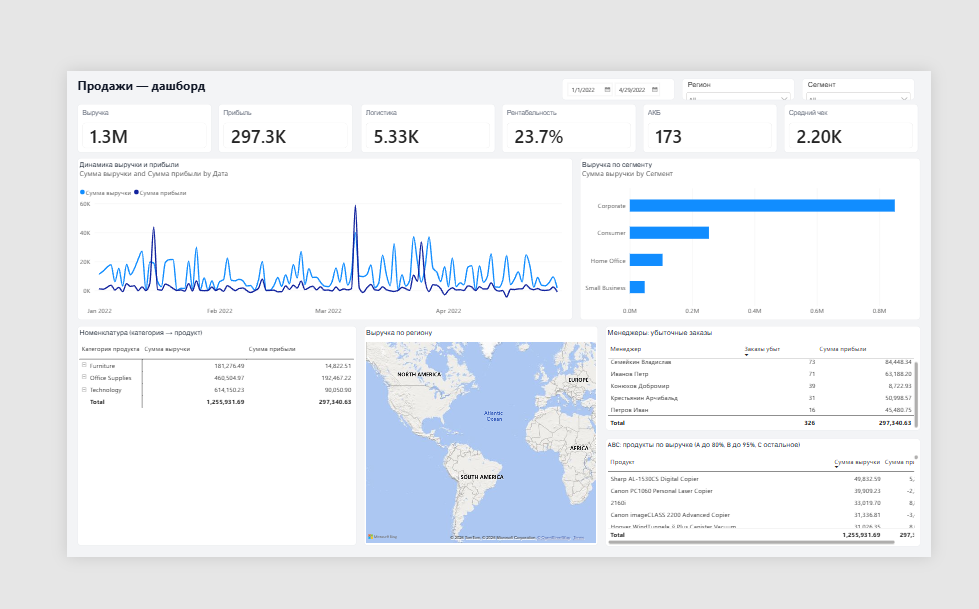

The dashboard page shown, as its layout file describes it:
{"tool":"powerbi","page":{"name":"Sales","canvas":[1920,1080],"ordinal":0},"visuals":[{"type":"textbox","box":[24,12,900,48],"z":0},{"type":"cardVisual","title":"Revenue","fields":{"Data":["Продажи.Сумма выручки"]},"box":[24,72,298,108],"z":1000},{"type":"cardVisual","title":"Profit","fields":{"Data":["Продажи.Сумма прибыли"]},"box":[338,72,298,108],"z":2000},{"type":"cardVisual","title":"Logistics","fields":{"Data":["Продажи.Затраты на логистику"]},"box":[652,72,298,108],"z":3000},{"type":"cardVisual","title":"Profitability","fields":{"Data":["Продажи.Рентабельность"]},"box":[966,72,298,108],"z":4000},{"type":"cardVisual","title":"Active customers","fields":{"Data":["Продажи.АКБ"]},"box":[1280,72,298,108],"z":5000},{"type":"cardVisual","title":"Avg. order value","fields":{"Data":["Продажи.Средний чек"]},"box":[1594,72,298,108],"z":6000},{"type":"lineChart","title":"Revenue and profit over time","fields":{"Category":["Продажи.Дата"],"Y":["Продажи.Сумма выручки","Продажи.Сумма прибыли"]},"box":[24,192,1100,360],"z":7000},{"type":"clusteredBarChart","title":"Revenue by segment","fields":{"Category":["Продажи.Сегмент"],"Y":["Продажи.Сумма выручки"]},"box":[1140,192,756,360],"z":8000},{"type":"pivotTable","title":"Product hierarchy (category → product)","fields":{"Rows":["Продажи.Категория продукта","Продажи.Подкатегория продукта","Продажи.Продукт"],"Values":["Продажи.Сумма выручки","Продажи.Сумма прибыли"]},"box":[24,568,620,488],"z":9000},{"type":"filledMap","title":"Revenue by region","fields":{"Location":["Продажи.Регион"],"Values":["Продажи.Сумма выручки"]},"box":[660,568,520,488],"z":10000},{"type":"tableEx","title":"Managers: loss-making orders","fields":{"Values":["Продажи.Менеджер","Продажи.Заказы убыт","Продажи.Сумма прибыли"]},"box":[1196,568,700,232],"z":11000},{"type":"tableEx","title":"ABC: products by revenue (A ≤80%, B ≤95%, C rest)","fields":{"Values":["Продажи.Продукт","Продажи.Сумма выручки","Продажи.Сумма прибыли"]},"box":[1196,816,700,240],"z":12000},{"type":"slicer","fields":{"Values":["Продажи.Дата"]},"box":[1100,16,250,48],"z":13000},{"type":"slicer","fields":{"Values":["Продажи.Регион"]},"box":[1366,16,250,48],"z":14000},{"type":"slicer","fields":{"Values":["Продажи.Сегмент"]},"box":[1632,16,250,48],"z":15000}]}

Visuals, with their boxes on the page's 1920x1080 design canvas (x1, y1, x2, y2). These are canvas units, not pixel positions in the 979x609 screenshot, which may show the page scaled, cropped or inside an application window:
textbox: 24/12/924/60
"Revenue" cardVisual: 24/72/322/180
"Profit" cardVisual: 338/72/636/180
"Logistics" cardVisual: 652/72/950/180
"Profitability" cardVisual: 966/72/1264/180
"Active customers" cardVisual: 1280/72/1578/180
"Avg. order value" cardVisual: 1594/72/1892/180
"Revenue and profit over time" lineChart: 24/192/1124/552
"Revenue by segment" clusteredBarChart: 1140/192/1896/552
"Product hierarchy (category → product)" pivotTable: 24/568/644/1056
"Revenue by region" filledMap: 660/568/1180/1056
"Managers: loss-making orders" tableEx: 1196/568/1896/800
"ABC: products by revenue (A ≤80%, B ≤95%, C rest)" tableEx: 1196/816/1896/1056
slicer - Продажи.Дата: 1100/16/1350/64
slicer - Продажи.Регион: 1366/16/1616/64
slicer - Продажи.Сегмент: 1632/16/1882/64
